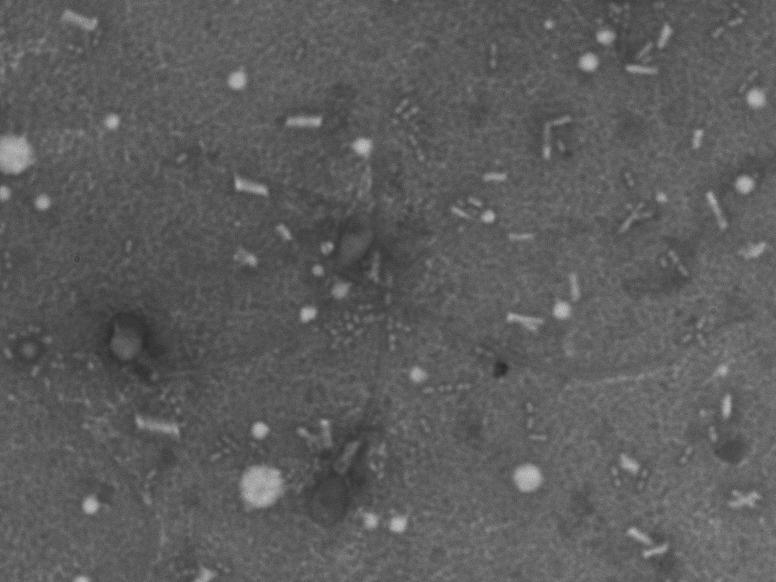Abnormal: (288, 297, 414, 542), (89, 277, 312, 406)
